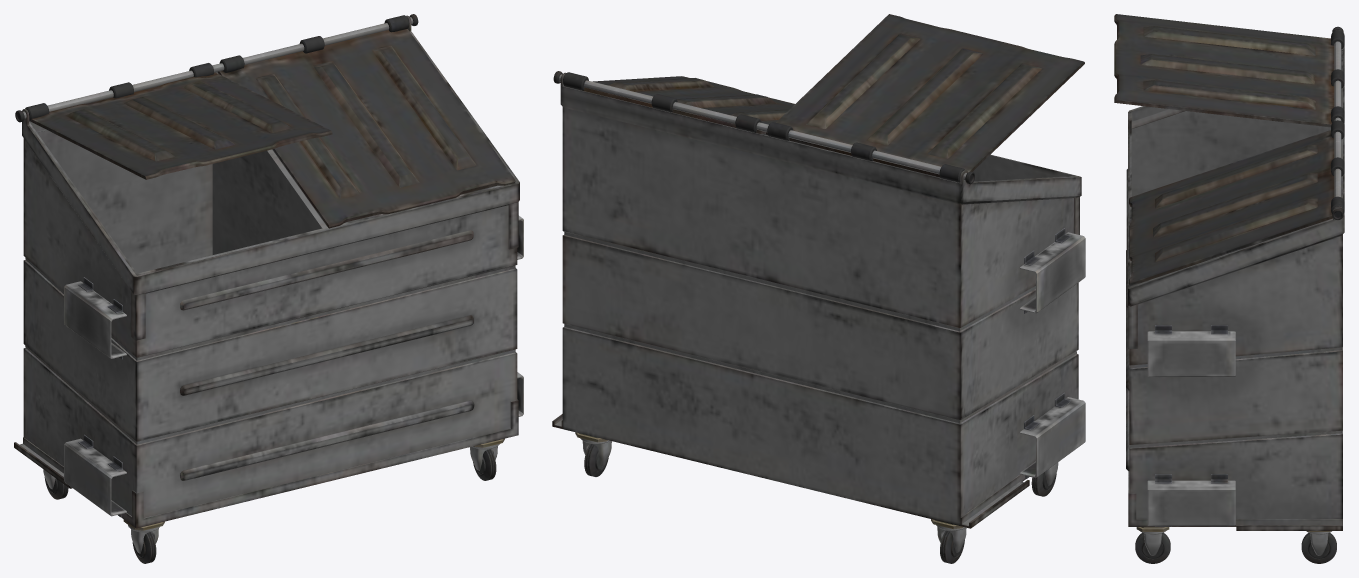
The model's file is dumpster1k.glb.
3 renders of one model, left to right at view 1: azimuth 30°, elevation 25°; view 2: azimuth 150°, elevation 25°; view 3: azimuth 270°, elevation 25°, orthographic. The views are drawn at different scales.
Visible parts, largest first — view 1: Plane.003; view 2: Plane.003; view 3: Plane.003.
Boxes of the visible parts, box(x1,y1,x2,y2) form: Plane.003: box(14, 14, 523, 563); Plane.003: box(552, 14, 1085, 563); Plane.003: box(1114, 14, 1344, 563).
Size of the model in its own units: 1.95 by 1.83 by 0.9944.
1 material, 1 textured.
